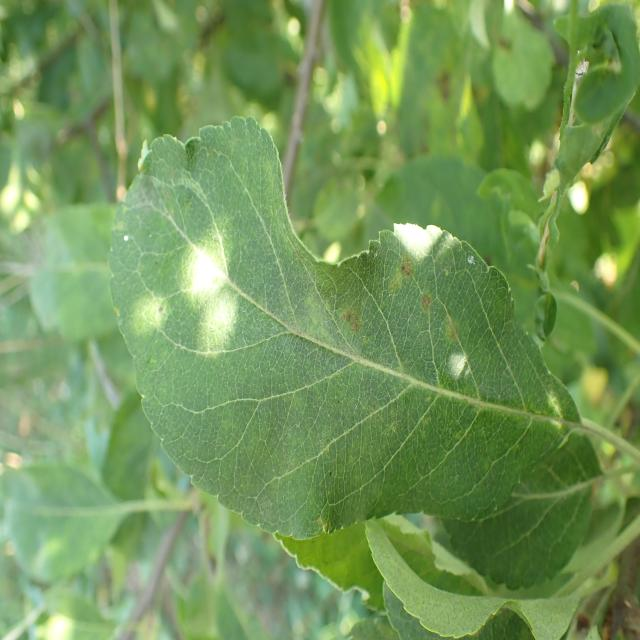scab: (170, 180, 571, 525)
